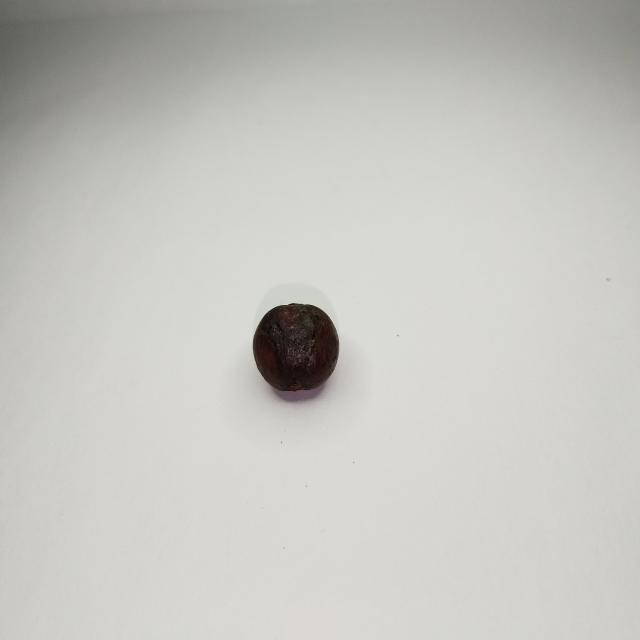Danado: (254, 306, 338, 395)
